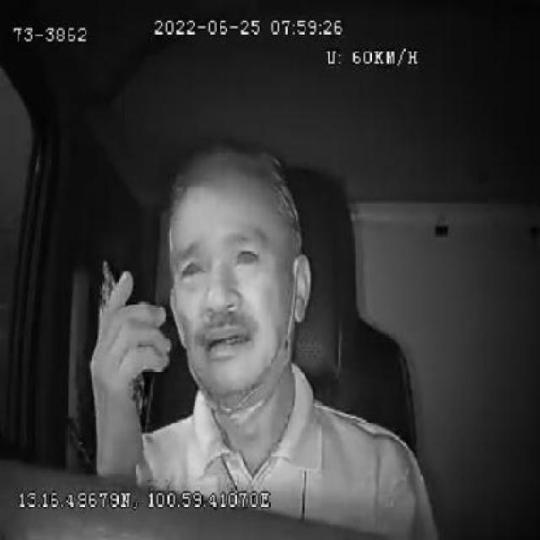phone: (99, 256, 156, 436)
